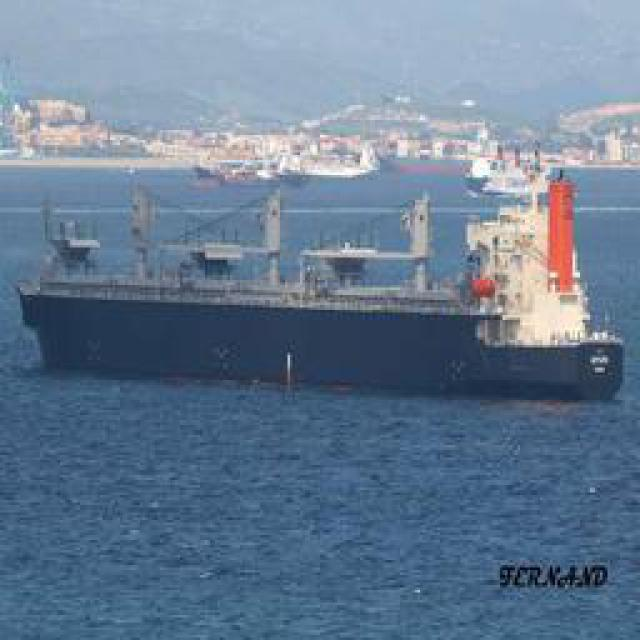Ship: (6, 160, 634, 405)
